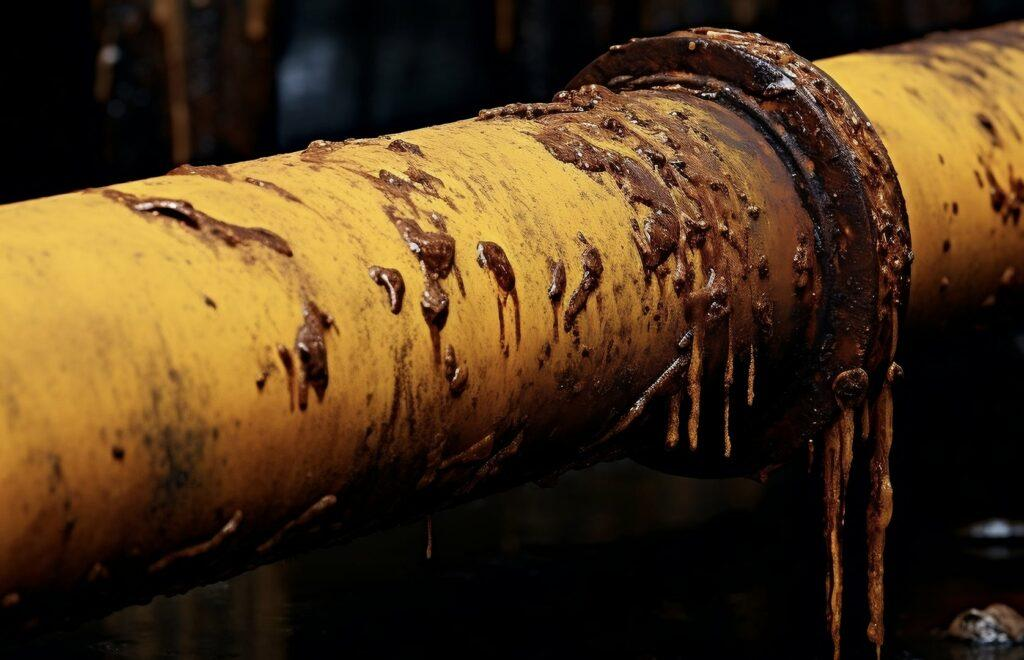leak: (523, 13, 913, 652)
